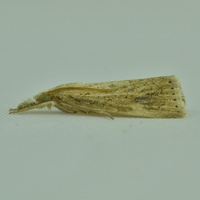insect: (9, 76, 185, 118)
